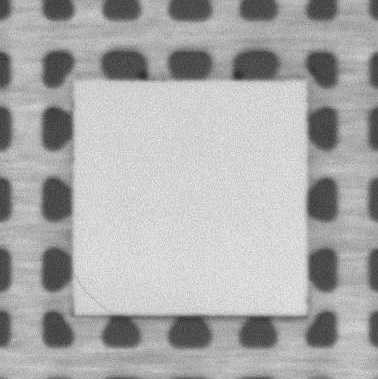DIE_CRACK: (72, 265, 116, 313)
